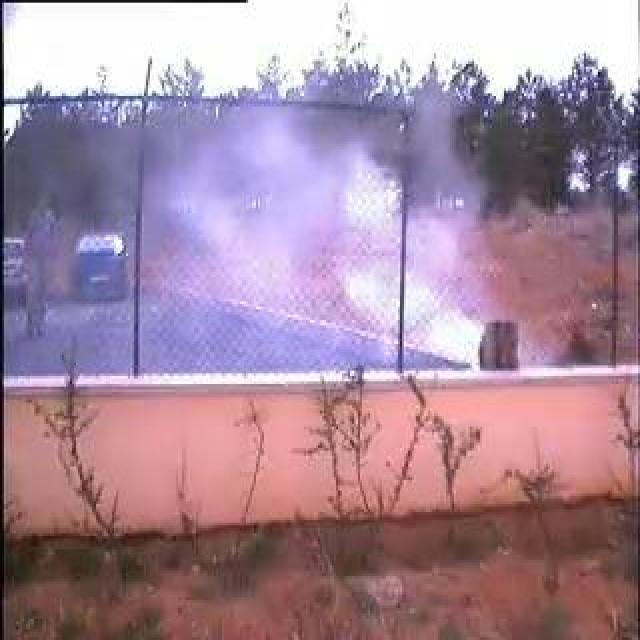Smoke: (209, 104, 481, 365)
